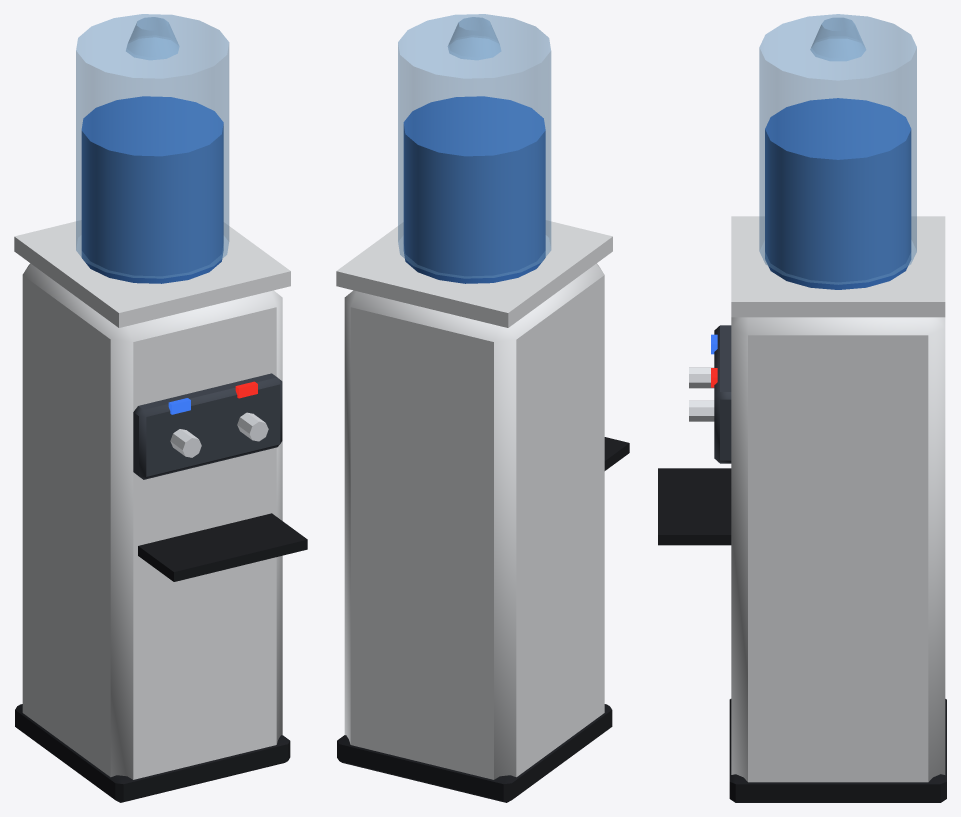
Rendered from galley_water_cooler.glb.
3 views of the same model, side by side, from view 1: azimuth 30°, elevation 25°; view 2: azimuth 150°, elevation 25°; view 3: azimuth 270°, elevation 25° (orthographic). The views are drawn at different scales.
Parts seen in each view (by area): view 1: galley_water_cooler; view 2: galley_water_cooler; view 3: galley_water_cooler.
Boxes of the visible parts, x1=… form: galley_water_cooler: x1=14, y1=14, x2=307, y2=802; galley_water_cooler: x1=336, y1=14, x2=629, y2=802; galley_water_cooler: x1=658, y1=14, x2=946, y2=802.
Size of the model in its own units: 0.366 by 1.45 by 0.513.
